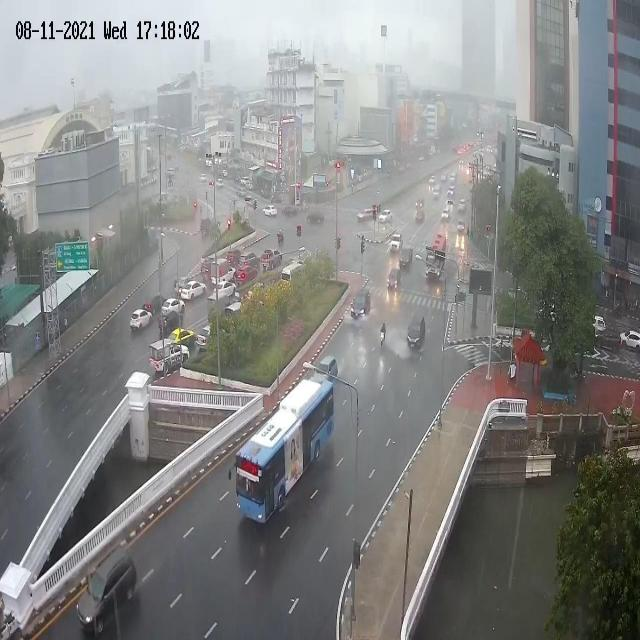Bus: (233, 374, 334, 530)
Car: (71, 546, 135, 634), (317, 339, 343, 382), (349, 284, 373, 324), (406, 314, 426, 351), (129, 306, 153, 332), (210, 257, 232, 285), (384, 263, 402, 295), (170, 324, 193, 349), (182, 280, 207, 303), (158, 307, 183, 330), (195, 323, 215, 351), (143, 287, 164, 312), (175, 270, 198, 292), (163, 295, 186, 316), (235, 264, 256, 284), (216, 276, 237, 296), (305, 207, 324, 228), (201, 256, 217, 279), (358, 203, 376, 223), (398, 248, 414, 269), (262, 248, 278, 268), (391, 232, 404, 255), (239, 252, 258, 267), (248, 280, 264, 297), (226, 248, 241, 266), (380, 206, 394, 224), (282, 203, 297, 219), (414, 194, 426, 212), (414, 210, 427, 224), (432, 184, 442, 202), (264, 203, 277, 216), (456, 217, 465, 235), (441, 208, 451, 224), (446, 198, 456, 211), (447, 183, 455, 199), (428, 173, 437, 186), (449, 172, 457, 185), (459, 199, 467, 212), (237, 189, 247, 199), (215, 178, 224, 188), (200, 172, 208, 183), (441, 171, 447, 183), (222, 168, 228, 177)
Cycle: (374, 320, 392, 347), (276, 228, 286, 246)
Truck: (148, 335, 189, 374), (426, 235, 446, 277)
Van: (280, 259, 304, 283)
